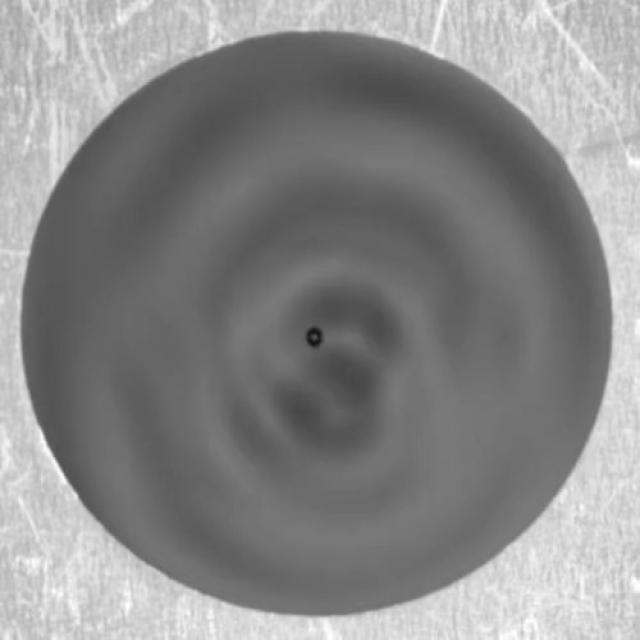droplet: (306, 324, 326, 352)
